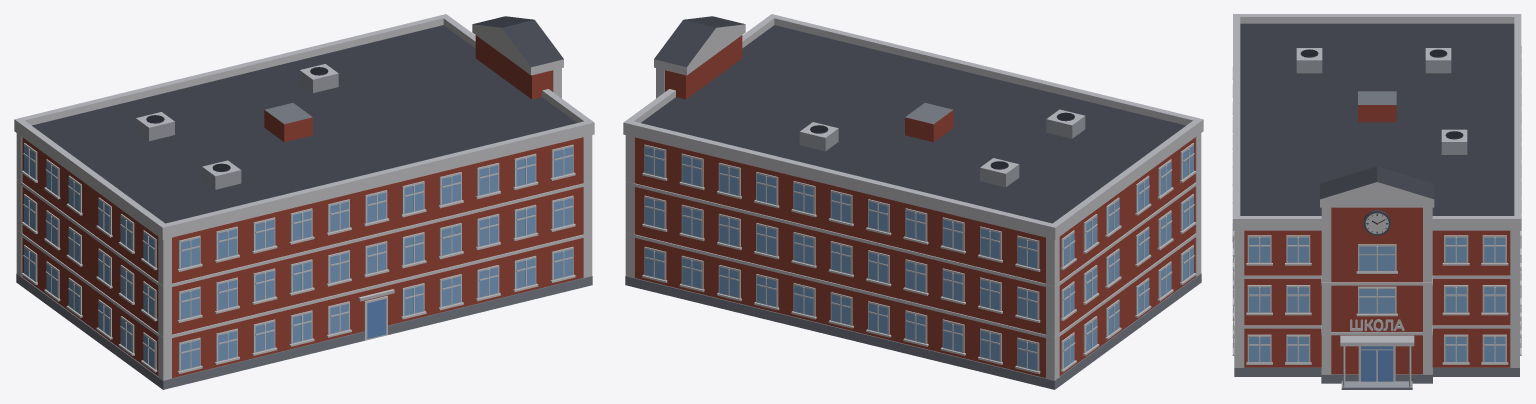
The model's file is school.glb.
3 renders of one model, left to right at view 1: azimuth 30°, elevation 25°; view 2: azimuth 150°, elevation 25°; view 3: azimuth 270°, elevation 25°, orthographic. The views are drawn at different scales.
Parts seen in each view (by area): view 1: School; view 2: School; view 3: School.
Boxes of the visible parts, <box> form: School: <box>14,14,594,389</box>; School: <box>623,14,1203,389</box>; School: <box>1232,14,1521,389</box>.
Bounding box in the file's own units: 31.97 × 13.85 × 17.97.
